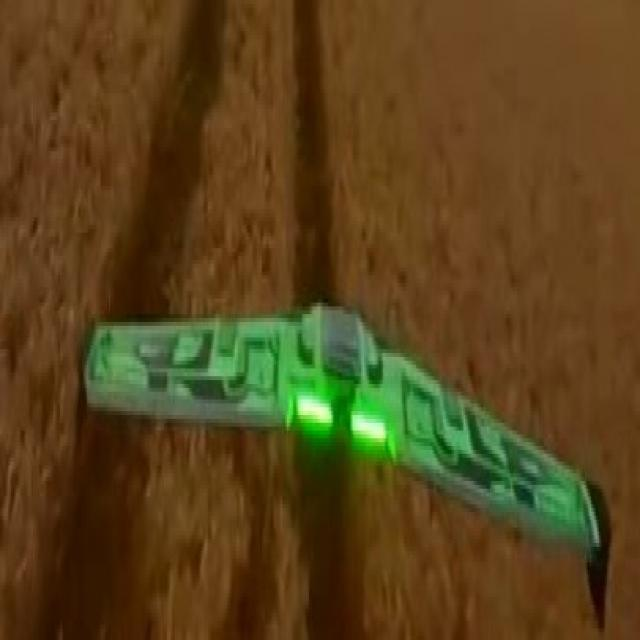UAV: (86, 282, 604, 584)
